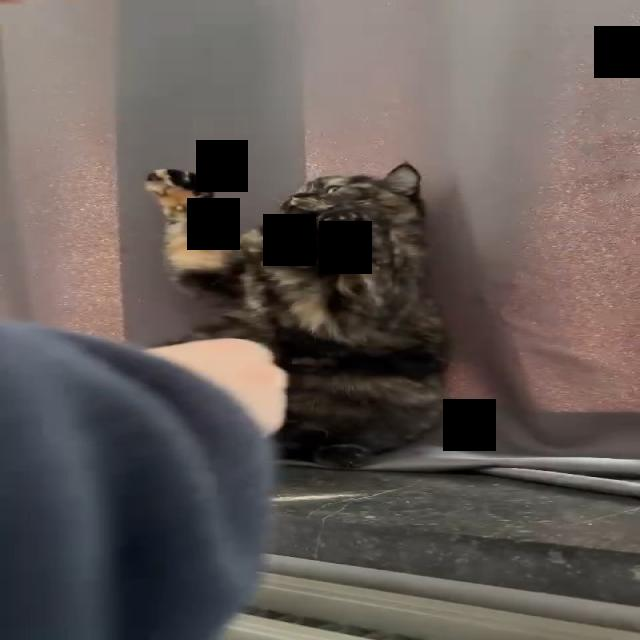authorized: (144, 161, 452, 468)
